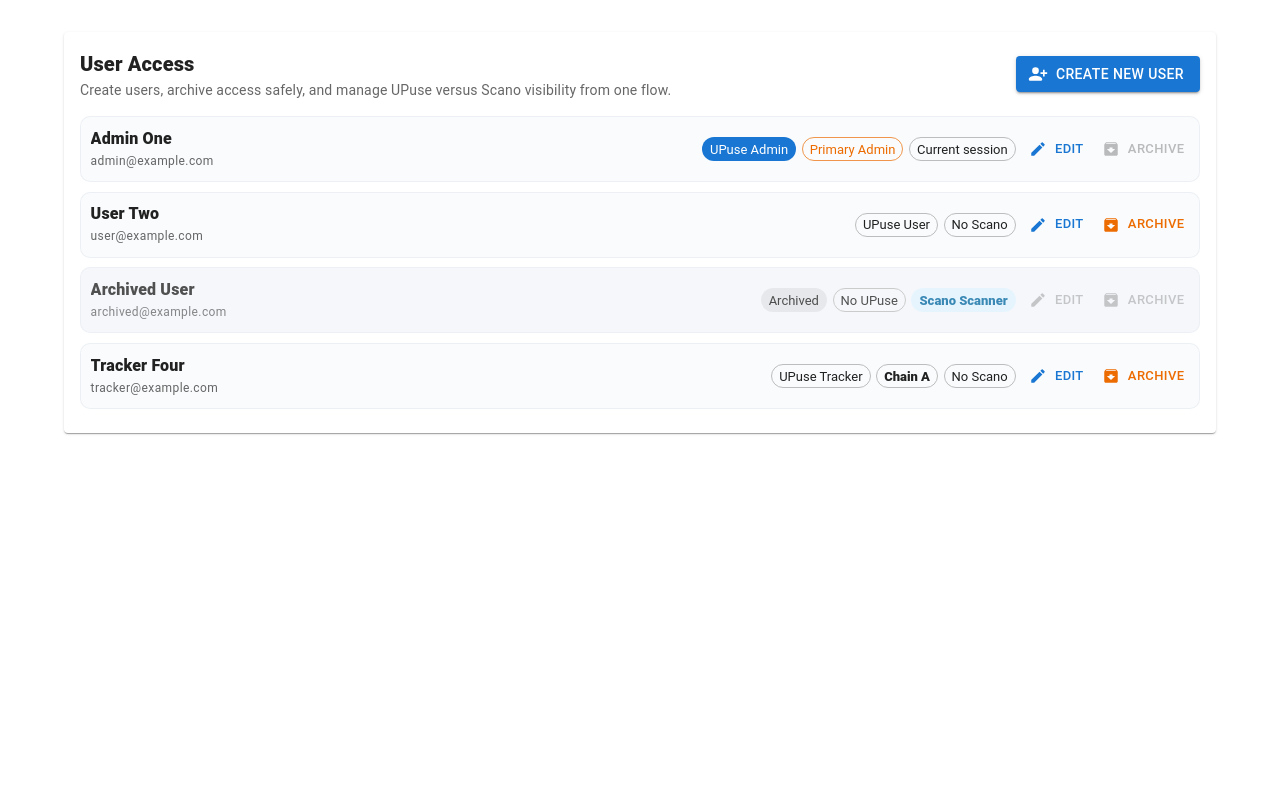
UsersPage › surfaces archive conflicts returned by the api
The image size is (1280, 800).
Click the button "Archive" in the row of "UPuse User": (1144, 225) [1099,209,1189,240]
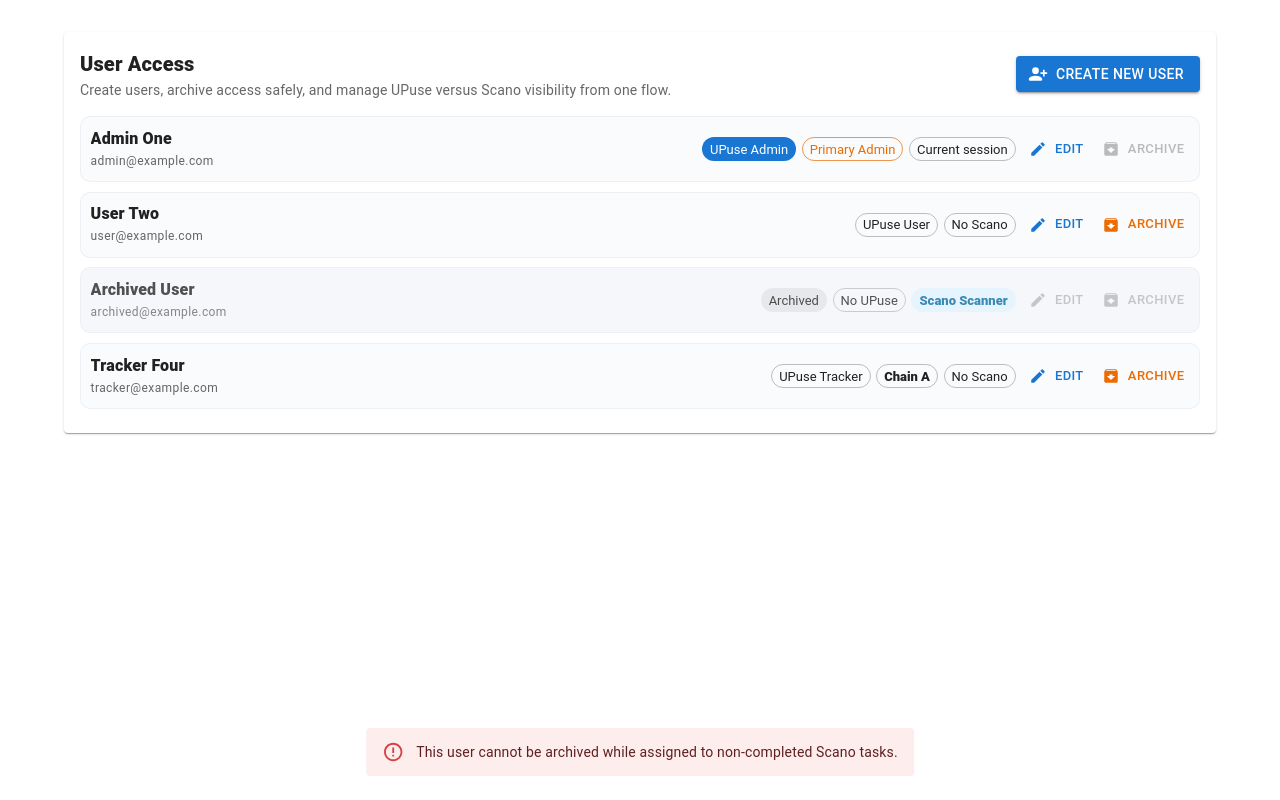
Check: the text "This user cannot be archived while assigned to non-completed Scano tasks." is shown, box [416,744,898,760]
